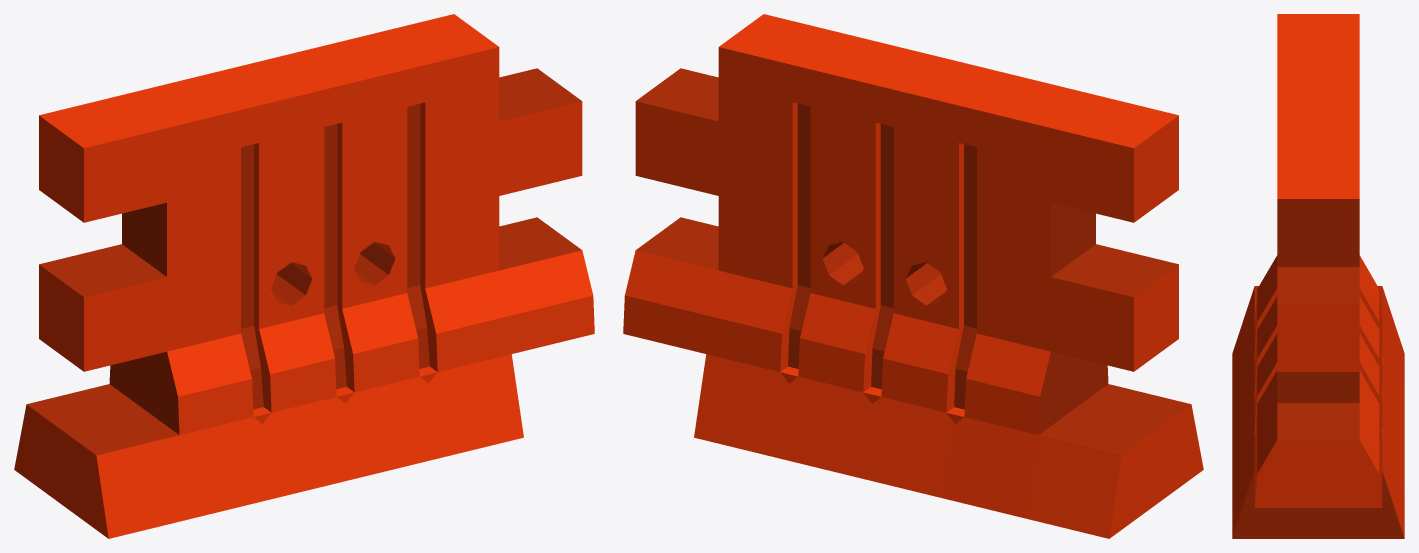
The model's file is Red_FireWall.fbx.
The picture shows the model from 3 angles, left to right: view 1: azimuth 30°, elevation 25°; view 2: azimuth 150°, elevation 25°; view 3: azimuth 270°, elevation 25°; orthographic projection. The views are drawn at different scales.
Visible parts, largest first — view 1: Cube; view 2: Cube; view 3: Cube.
Boxes of the visible parts, x1,y1,x2,y2 form: Cube: (14,14,594,538); Cube: (623,14,1203,538); Cube: (1232,14,1404,538).
Bounding box in the file's own units: 140 × 100 × 45.99.
